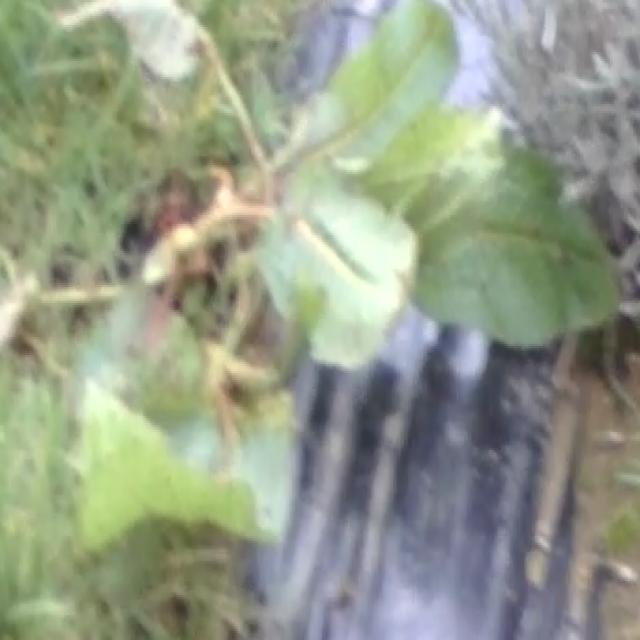organic waste: (0, 0, 619, 629)
